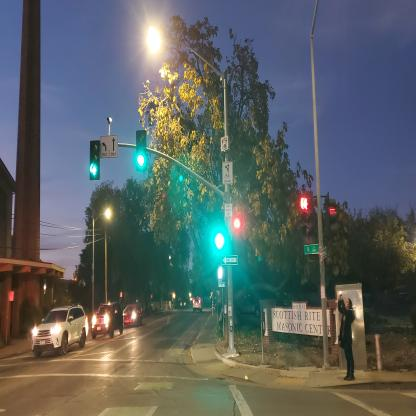green: (211, 216, 228, 269), (135, 128, 148, 174)
left-green: (88, 138, 100, 182)
left-red: (298, 191, 318, 247)
red: (232, 214, 244, 260)
